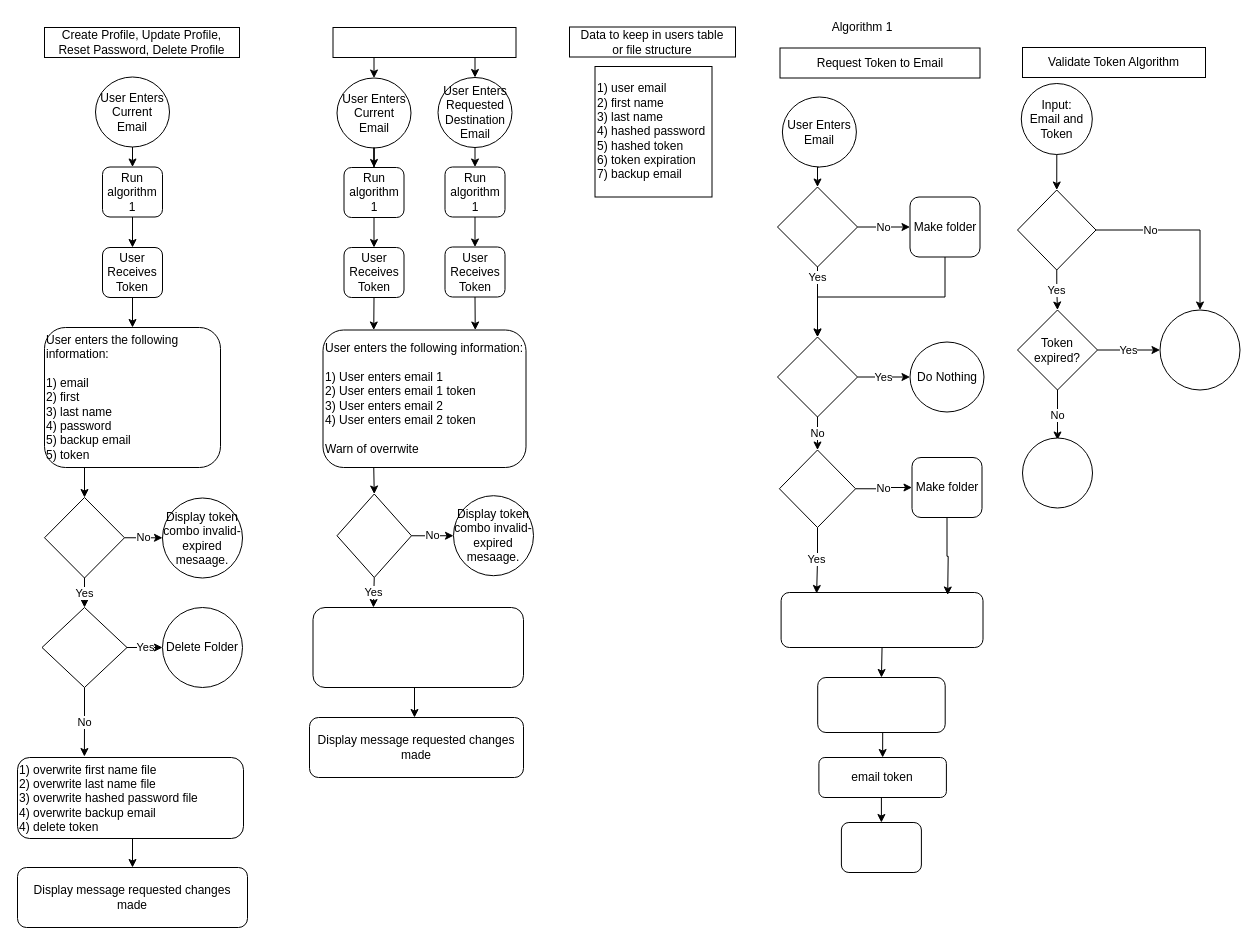
The diagram is 1258 pixels wide and 945 high, and some of its shapes have lost their labels. Each missing label, with the centre of its shape:
1) add hashed token to table entry 2) add timestamp to table entry: the point at 881,620
1) write token file 2) write expiration file: the point at 881,704
1. If destination exists delete folder 2. Rename email1 to email2: the point at 418,647
Both Valid: the point at 374,535
Change Email: the point at 424,42
Display Appropriate Message: the point at 880,847
Email folder exists?: the point at 817,488
Email/Token Combo Valid: the point at 1056,229
Not Valid: the point at 1199,349
Request to Delete?: the point at 84,647
Unexpired Token?: the point at 817,376
users folder exists?: the point at 817,226
Valid: the point at 1057,472
Valid Token: the point at 84,537
